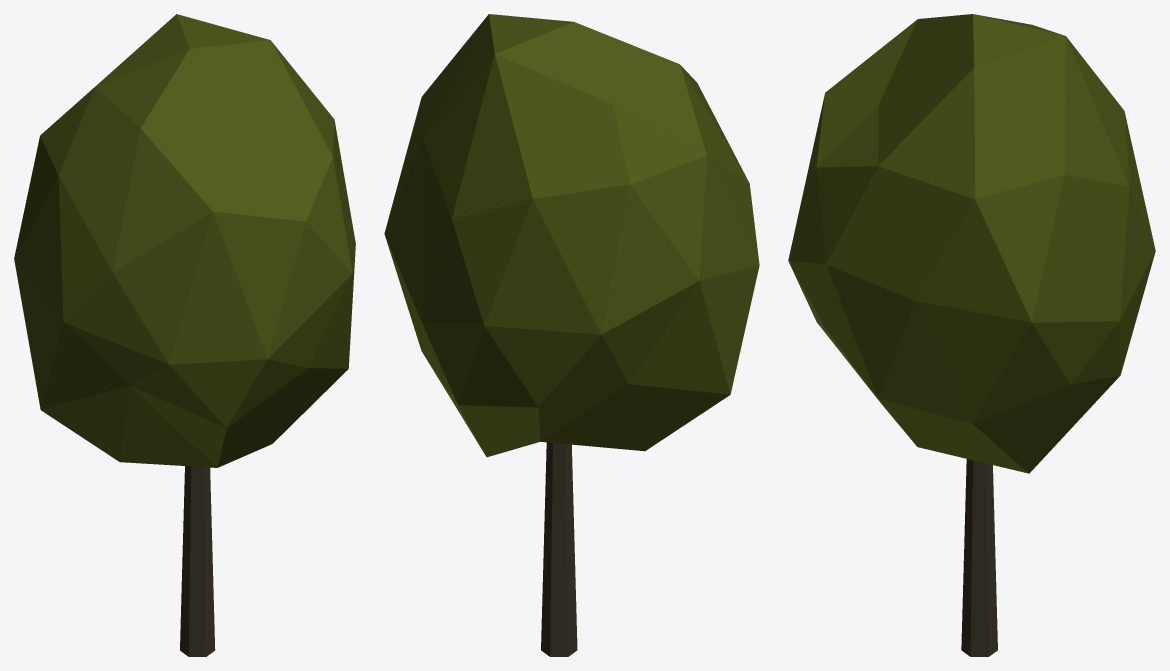
The model's file is roman_bush.fbx.
3 views of the same model, side by side, from view 1: azimuth 30°, elevation 25°; view 2: azimuth 150°, elevation 25°; view 3: azimuth 270°, elevation 25° (orthographic). The views are drawn at different scales.
Visible parts, largest first — view 1: Icosphere.006; view 2: Icosphere.006; view 3: Icosphere.006.
Boxes of the visible parts, x1=… form: Icosphere.006: x1=14, y1=14, x2=355, y2=656; Icosphere.006: x1=384, y1=14, x2=759, y2=656; Icosphere.006: x1=788, y1=14, x2=1155, y2=656.
Bounding box in the file's own units: 1.01 × 1.9 × 1.
